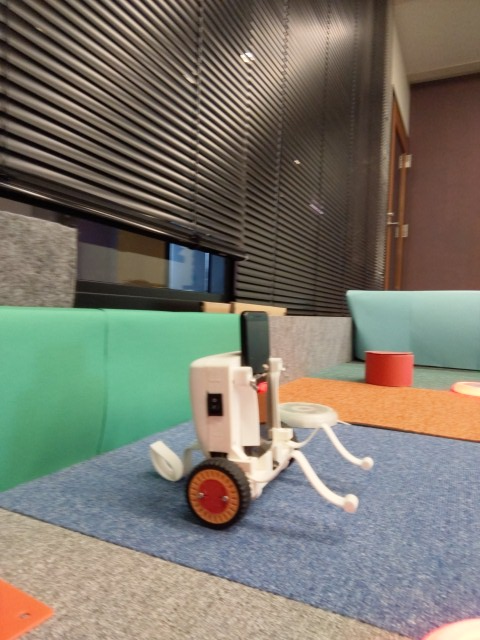br: (148, 306, 375, 533)
o: (274, 398, 339, 431)
r: (448, 375, 480, 400)
